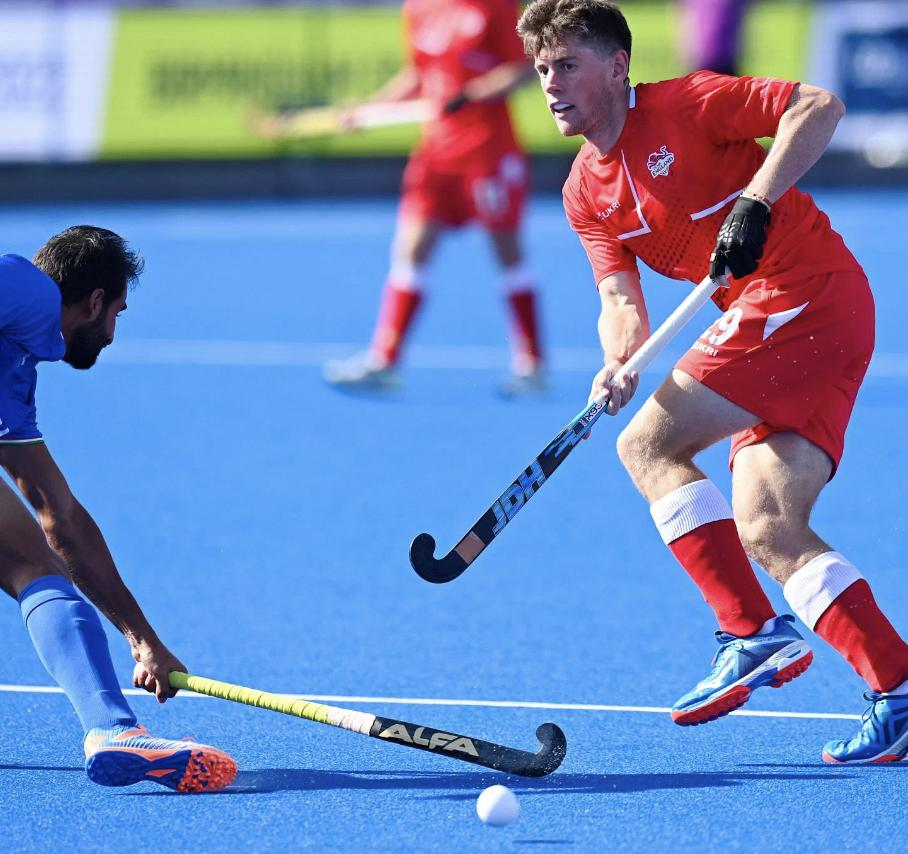ball: (469, 783, 540, 832)
